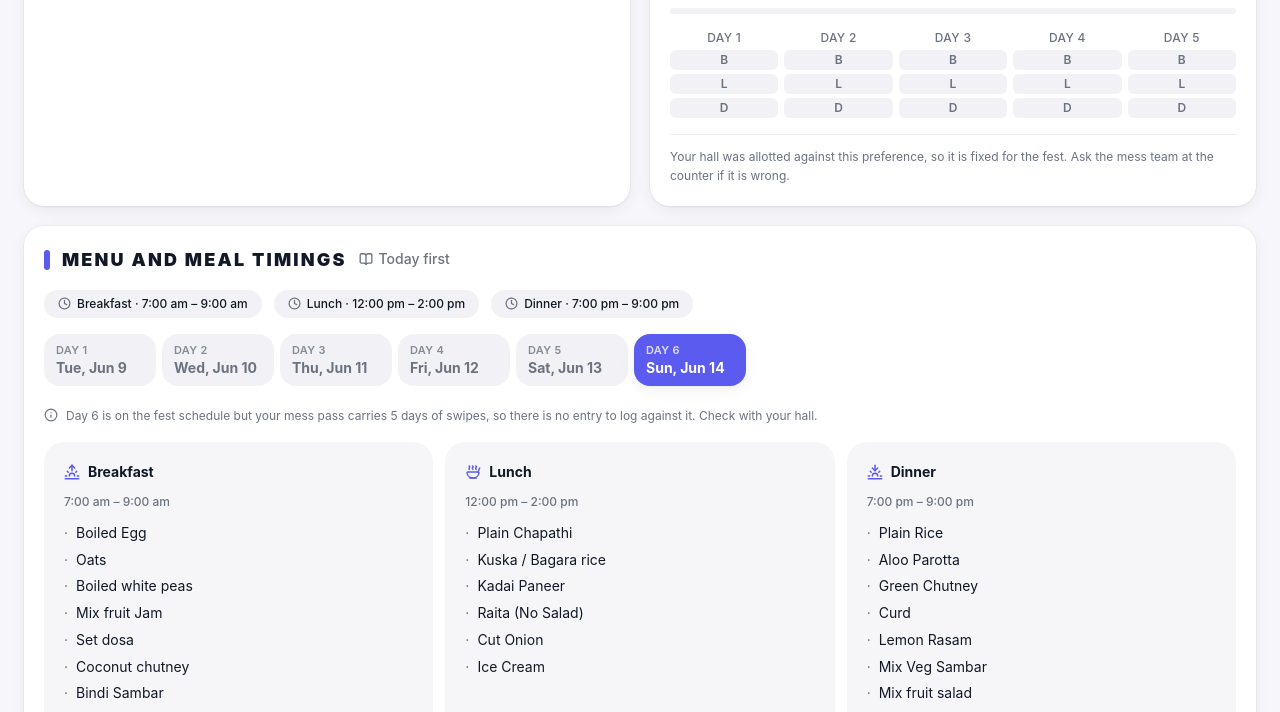
AccommodationPage — mess menu and meal timings (story 4.1) › names real dishes instead of the old "Menu not recorded"
The width and height of the screenshot is (1280, 712).
(page scrolled)
Click the tab "Day 1 Tue, Jun 9" at (100, 360), box [44,334,156,386]
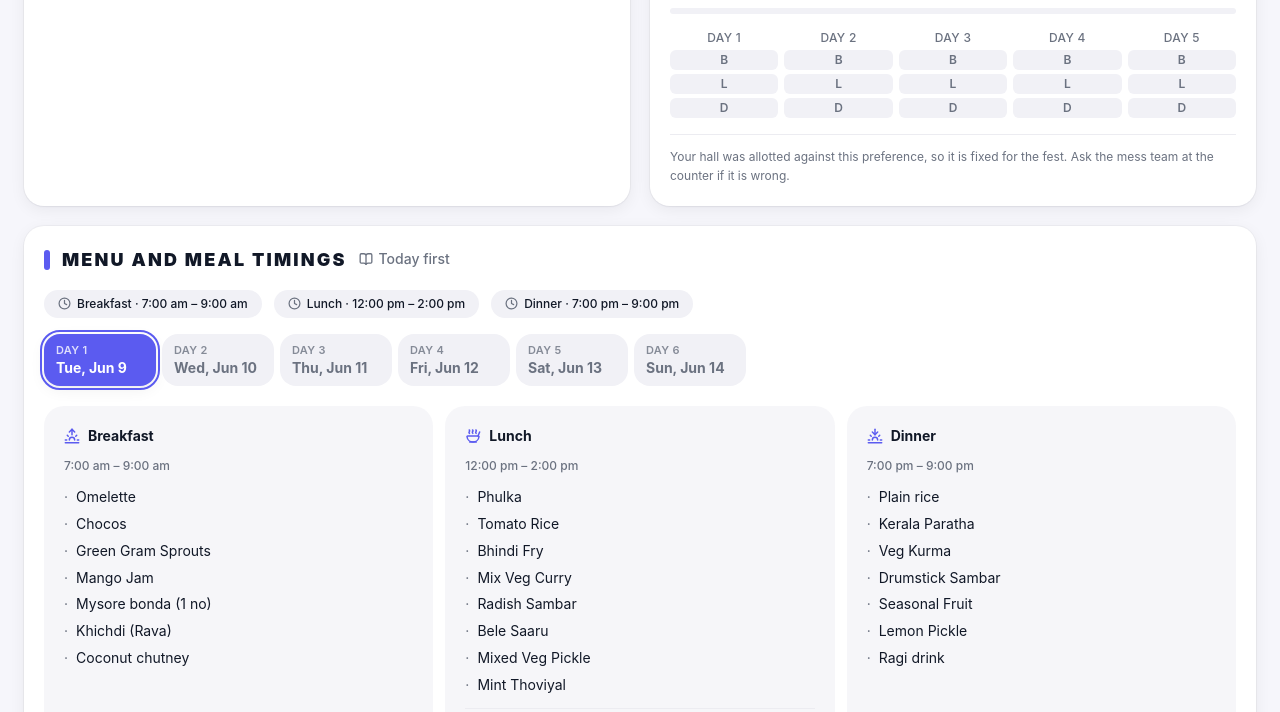
Expected: the text "Plain rice" is shown, [879,486,940,509]
Expected: the text "Omelette" is shown, [76,486,136,509]
Expected: the text "Phulka" is shown, [477,486,522,509]
